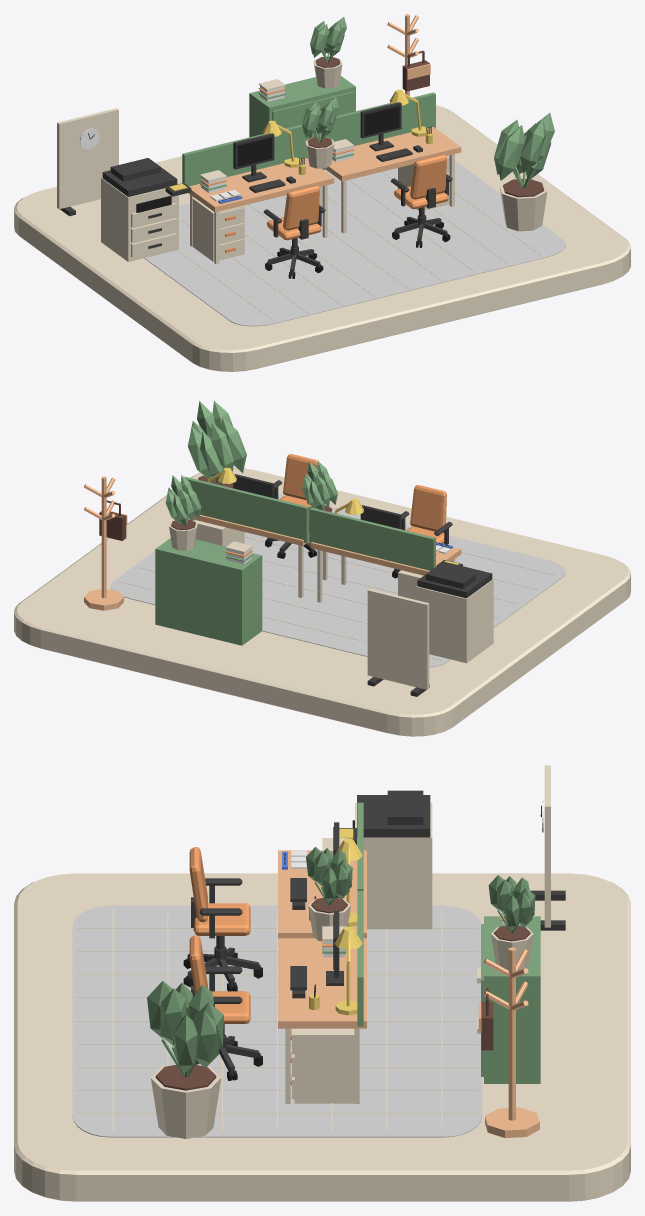
3 views of the same model, one above another, from view 1: azimuth 30°, elevation 25°; view 2: azimuth 150°, elevation 25°; view 3: azimuth 270°, elevation 25° (orthographic). The views are drawn at different scales.
Parts seen in each view (by area): view 1: AST-001-0, AST-002-0, AST-009-0, AST-3111-031, AST-010-2, AST-004-1, AST-004-0, AST-015-0, AST-3180-030, AST-003-0, AST-003-1, AST-013-0 (+8 smaller); view 2: AST-001-0, AST-002-0, AST-015-0, AST-009-0, AST-3111-031, AST-013-0, AST-013-1, AST-010-2, AST-003-0, AST-010-1, AST-016-0, AST-3180-030 (+10 smaller); view 3: AST-001-0, AST-002-0, AST-009-0, AST-010-2, AST-004-1, AST-015-0, AST-3180-030, AST-008-1, AST-003-0, AST-016-0, AST-010-1, AST-003-1 (+7 smaller).
Boxes of the visible parts, box(x1,y1,x2,y2) form: AST-001-0: box(14, 105, 630, 371); AST-002-0: box(144, 160, 565, 326); AST-009-0: box(101, 158, 191, 261); AST-3111-031: box(57, 108, 118, 216); AST-010-2: box(494, 113, 554, 231); AST-004-1: box(319, 127, 461, 233); AST-004-0: box(188, 158, 334, 264); AST-015-0: box(249, 76, 355, 170); AST-3180-030: box(158, 169, 556, 321); AST-003-0: box(263, 185, 325, 278); AST-003-1: box(390, 154, 452, 247); AST-013-0: box(182, 124, 308, 186); AST-001-0: box(14, 467, 630, 736); AST-002-0: box(110, 494, 565, 667); AST-015-0: box(155, 538, 262, 645); AST-009-0: box(416, 559, 493, 663); AST-3111-031: box(367, 589, 429, 696); AST-013-0: box(309, 507, 435, 570); AST-013-1: box(184, 476, 308, 543); AST-010-2: box(187, 400, 246, 488); AST-003-0: box(392, 485, 452, 578); AST-010-1: box(165, 475, 201, 550); AST-016-0: box(84, 476, 123, 610); AST-3180-030: box(120, 510, 556, 660); AST-001-0: box(14, 873, 630, 1201); AST-002-0: box(72, 905, 482, 1137); AST-009-0: box(339, 790, 432, 929); AST-010-2: box(147, 981, 223, 1138); AST-004-1: box(278, 938, 366, 1103); AST-015-0: box(477, 916, 540, 1083); AST-3180-030: box(76, 909, 478, 1132); AST-008-1: box(290, 1028, 354, 1103); AST-003-0: box(183, 847, 262, 991); AST-016-0: box(483, 947, 539, 1137); AST-010-1: box(488, 875, 535, 969); AST-003-1: box(189, 935, 262, 1080).
Bounding box in the file's own units: 6 × 2.17 × 5.2.
Materials: 1 (1 with a texture image).
